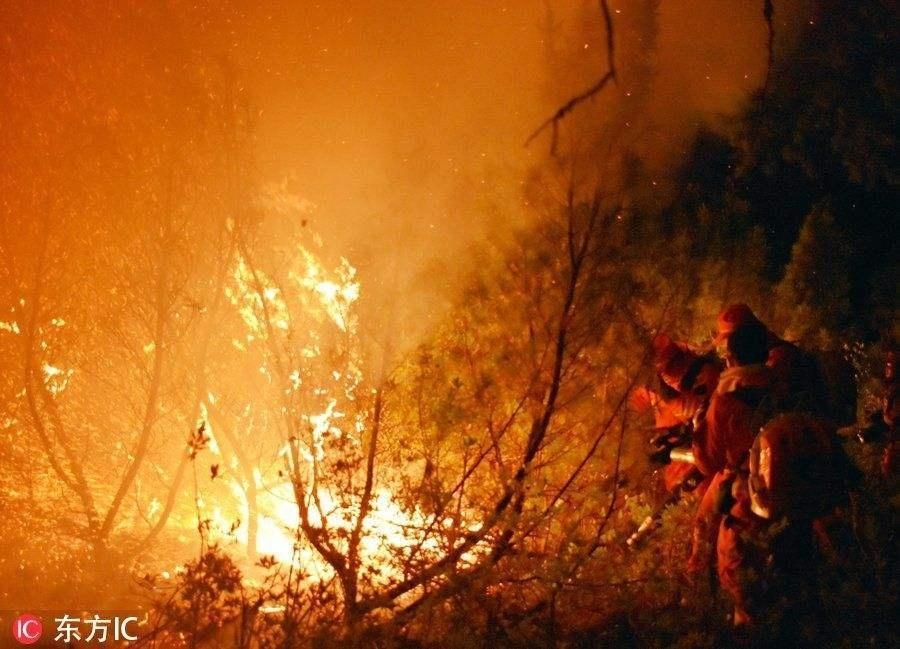fire: (167, 227, 479, 585), (2, 289, 158, 431)
